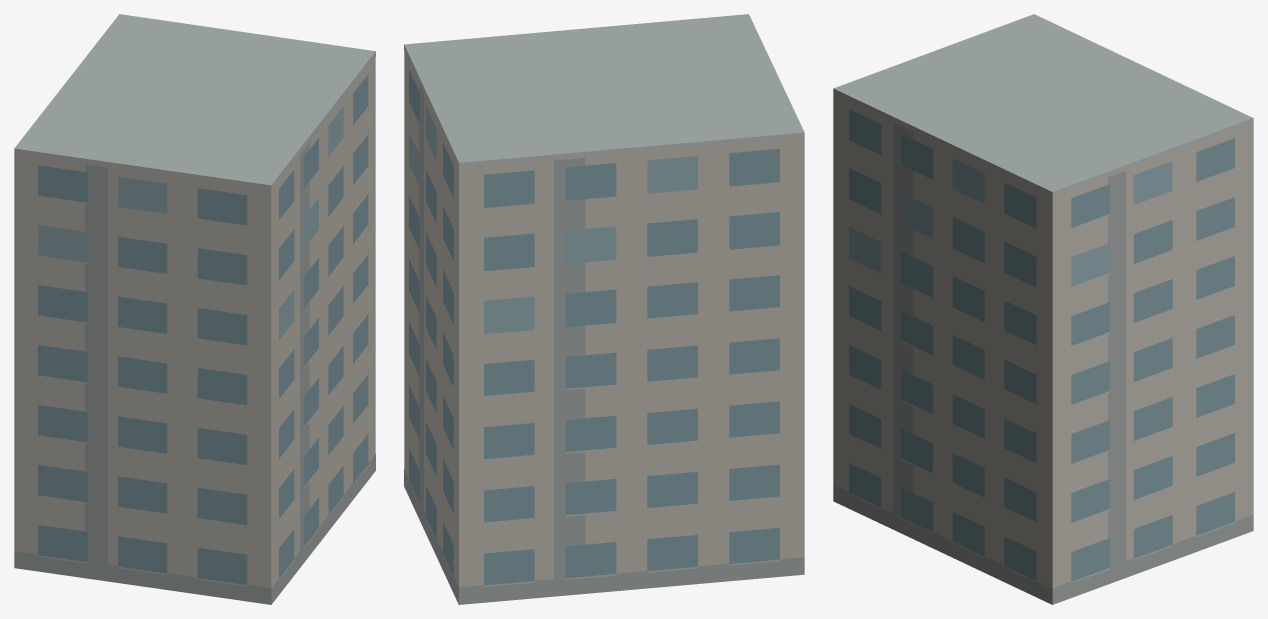
File: survey-upis-32890881.glb
3 views of the same model, side by side, from view 1: azimuth 30°, elevation 25°; view 2: azimuth 150°, elevation 25°; view 3: azimuth 270°, elevation 25° (orthographic). The views are drawn at different scales.
Visible parts, largest first — view 1: survey-upis-32890881.tmp; view 2: survey-upis-32890881.tmp; view 3: survey-upis-32890881.tmp.
Boxes of the visible parts, left/top/right/bottom form: survey-upis-32890881.tmp: left=14, top=14, right=375, bottom=604; survey-upis-32890881.tmp: left=404, top=14, right=804, bottom=604; survey-upis-32890881.tmp: left=833, top=14, right=1253, bottom=604.
Size of the model in its own units: 16.43 by 17.75 by 16.38.
